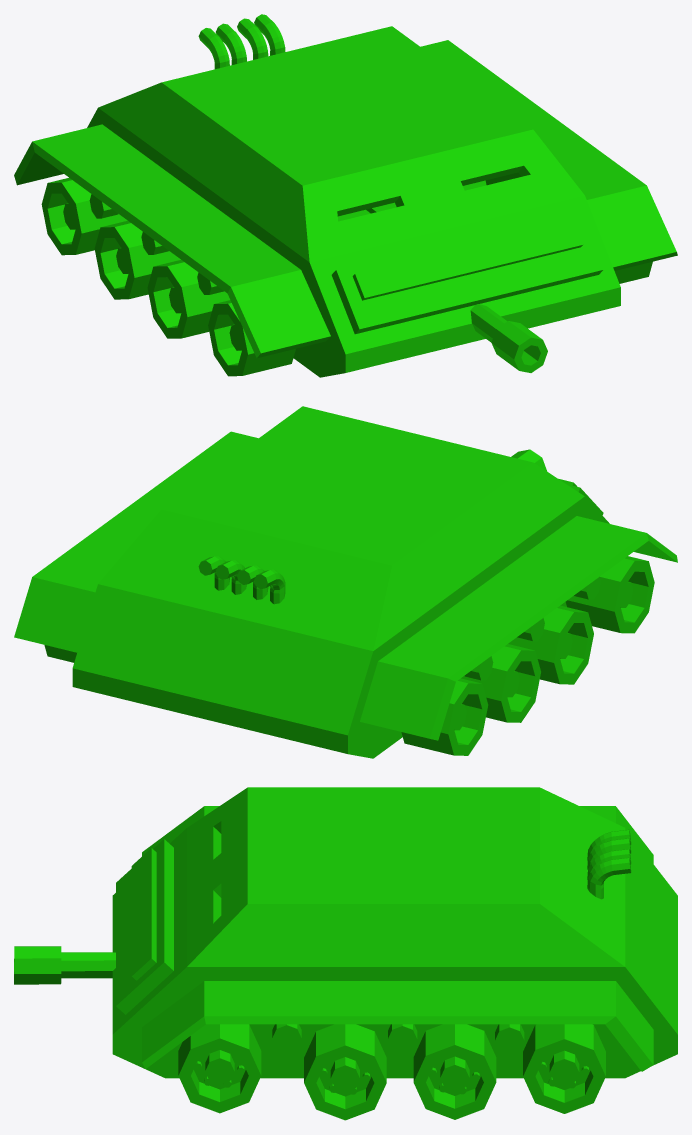
The model's file is tank.fbx.
3 views of the same model, one above another, from view 1: azimuth 30°, elevation 25°; view 2: azimuth 150°, elevation 25°; view 3: azimuth 270°, elevation 25° (orthographic). The views are drawn at different scales.
Parts seen in each view (by area): view 1: Body, Barrel; view 2: Body; view 3: Body, Barrel.
Boxes of the visible parts, <box> form: Body: <box>14,14,677,377</box>; Barrel: <box>470,304,547,372</box>; Body: <box>14,406,677,758</box>; Body: <box>112,787,677,1120</box>; Barrel: <box>14,946,115,984</box>.
Bounding box in the file's own units: 499 × 190 × 658.
